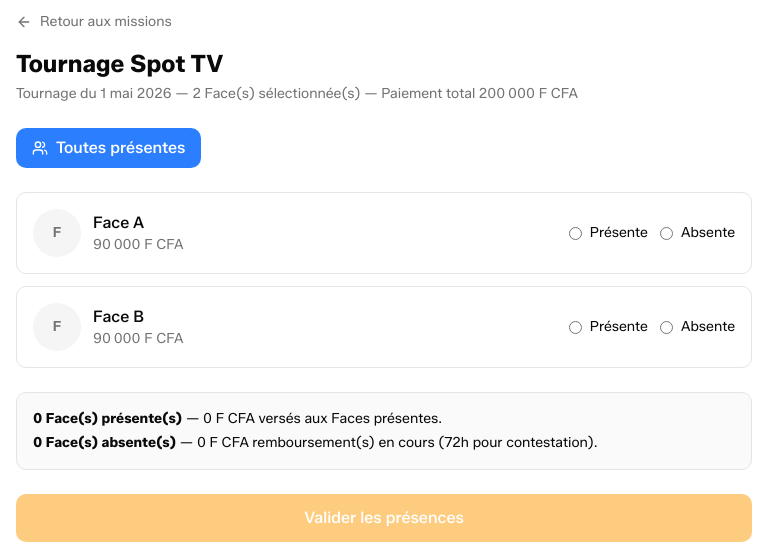
Test case: AttendanceValidationPage › keeps submit disabled until every editable entry is decided
Step 1. Click the radio button with test id "decision-1-present" → (575, 233), box [569,226,582,240]
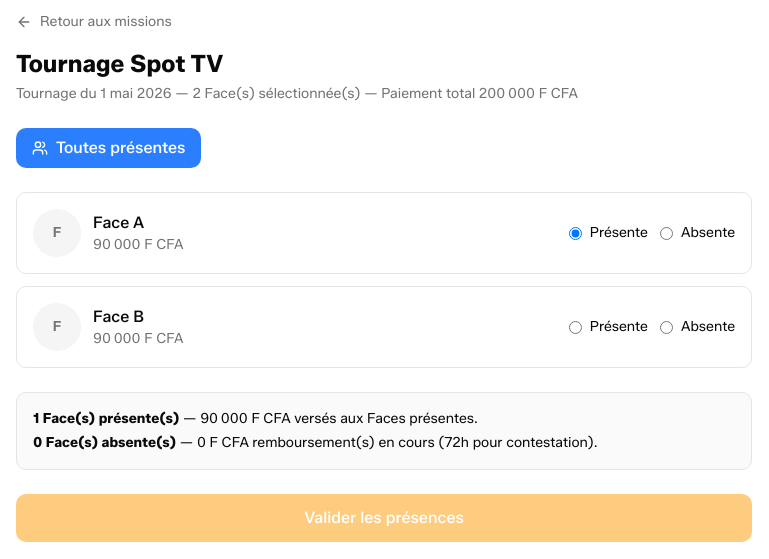
Expected: the button with test id "attendance-submit-button" is disabled, [16,494,752,542]
Step 2. Click the radio button with test id "decision-2-absent" → (666, 327), box [660,320,673,334]
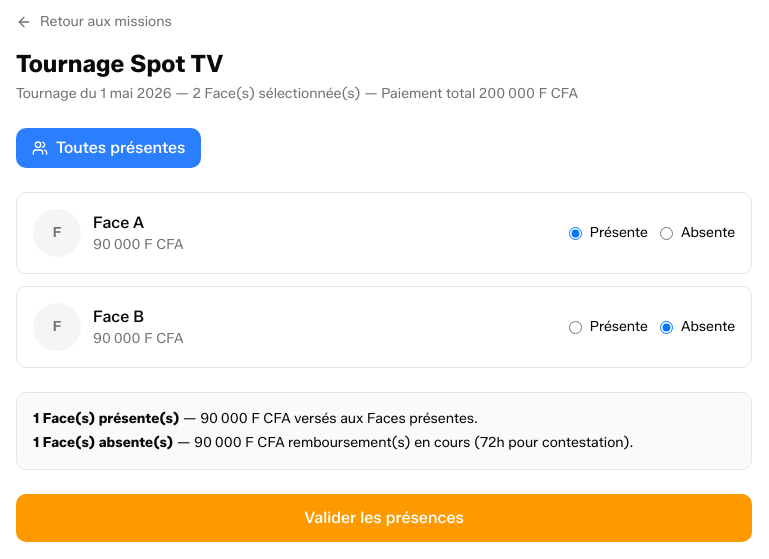
Now the button with test id "attendance-submit-button" is enabled, box [16,494,752,542]
